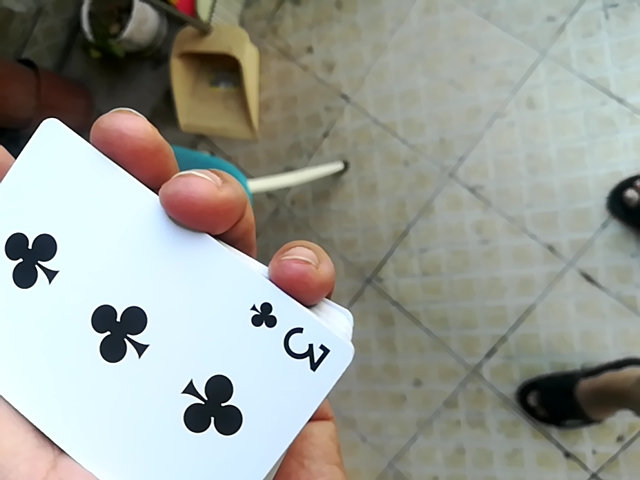mh 3: (0, 117, 359, 479)
